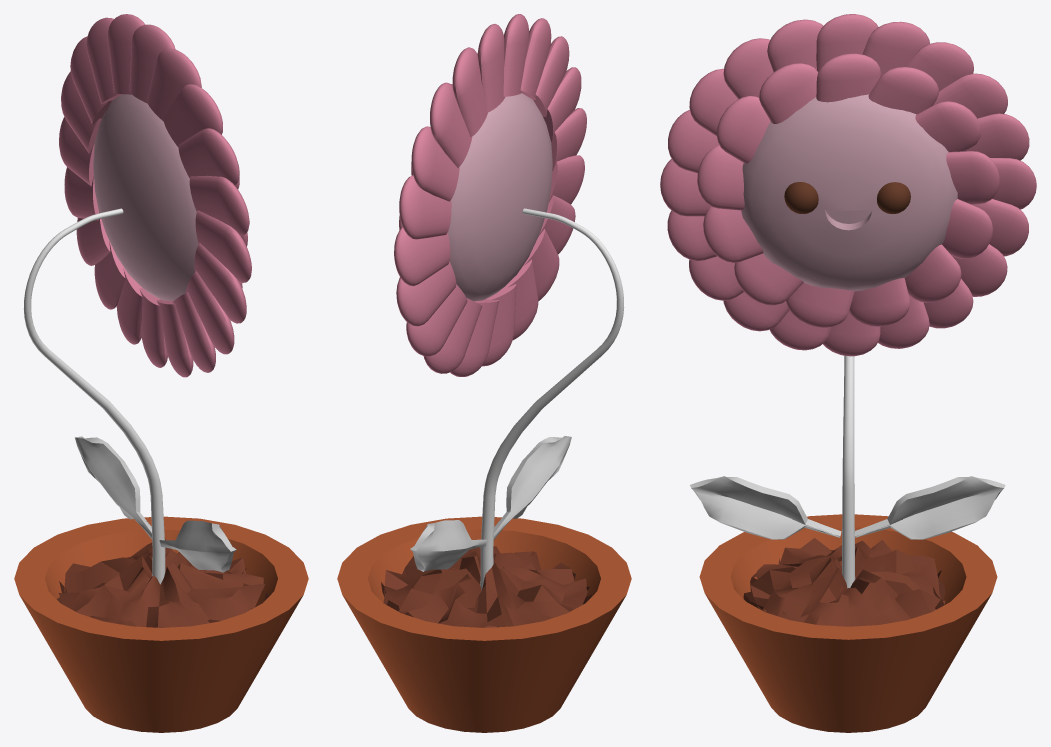
File: blume.fbx
3 renders of one model, left to right at view 1: azimuth 30°, elevation 25°; view 2: azimuth 150°, elevation 25°; view 3: azimuth 270°, elevation 25°, orthographic.
Parts seen in each view (by area): view 1: Lathe, Kugel, Zylinder, Ebene, Sweep, Kapsel_17, Kapsel_18, Kapsel_16, Kapsel_19, Kapsel_15, Kapsel_14, Kapsel_0 (+13 smaller); view 2: Lathe, Kugel, Zylinder, Ebene, Sweep, Kapsel_4, Kapsel_3, Kapsel_5, Kapsel_2, Kapsel_6, Kapsel_1, Kapsel_7 (+13 smaller); view 3: Lathe, Kugel, Zylinder, Ebene, Sweep, Kapsel_12_2, Kapsel_0_2, Kapsel_11_2, Kapsel_10_2, Kapsel_1_2, Kapsel_9_2, Kapsel_2_2 (+27 smaller).
Boxes of the visible parts, left/top/right/bottom form: Lathe: left=14, top=516, right=308, bottom=732; Kugel: left=93, top=94, right=198, bottom=301; Zylinder: left=56, top=538, right=268, bottom=627; Ebene: left=75, top=436, right=236, bottom=572; Sweep: left=23, top=208, right=165, bottom=584; Kapsel_17: left=178, top=128, right=239, bottom=185; Kapsel_18: left=163, top=84, right=222, bottom=147; Kapsel_16: left=189, top=175, right=249, bottom=235; Kapsel_19: left=146, top=48, right=201, bottom=121; Kapsel_15: left=195, top=210, right=251, bottom=282; Kapsel_14: left=194, top=243, right=246, bottom=323; Kapsel_0: left=129, top=24, right=175, bottom=103; Lathe: left=337, top=516, right=631, bottom=732; Kugel: left=448, top=93, right=552, bottom=301; Zylinder: left=381, top=546, right=591, bottom=627; Ebene: left=410, top=436, right=571, bottom=571; Sweep: left=480, top=208, right=624, bottom=590; Kapsel_4: left=399, top=175, right=451, bottom=239; Kapsel_3: left=411, top=126, right=459, bottom=201; Kapsel_5: left=394, top=227, right=450, bottom=286; Kapsel_2: left=430, top=82, right=472, bottom=167; Kapsel_6: left=396, top=261, right=456, bottom=326; Kapsel_1: left=452, top=47, right=487, bottom=137; Kapsel_7: left=406, top=284, right=467, bottom=356; Lathe: left=699, top=514, right=997, bottom=732; Kugel: left=741, top=94, right=957, bottom=291; Zylinder: left=743, top=538, right=945, bottom=626; Ebene: left=690, top=476, right=1005, bottom=539; Sweep: left=842, top=355, right=855, bottom=588; Kapsel_12_2: left=759, top=63, right=818, bottom=123; Kapsel_0_2: left=816, top=53, right=880, bottom=102; Kapsel_11_2: left=717, top=96, right=770, bottom=163; Kapsel_10_2: left=697, top=145, right=744, bottom=210; Kapsel_1_2: left=868, top=67, right=938, bottom=114; Kapsel_9_2: left=703, top=206, right=763, bottom=262; Kapsel_2_2: left=915, top=101, right=981, bottom=151.
Size of what is drawn, in the model's own units: 361 by 876 by 438.
